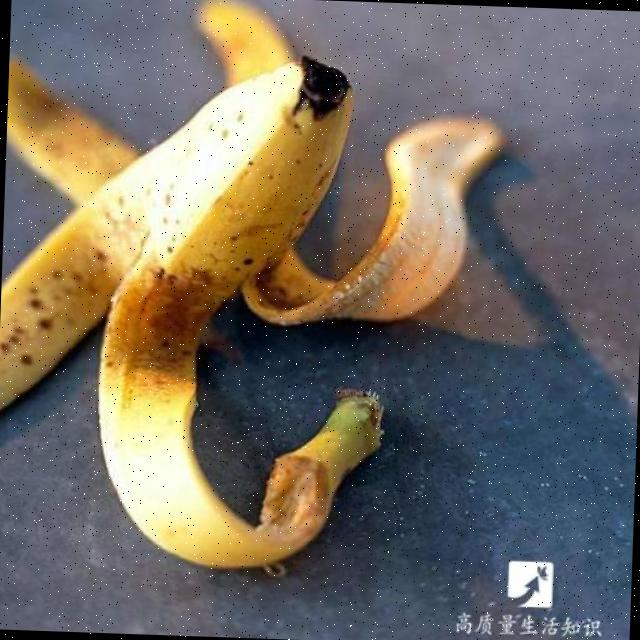banana-peel: (0, 0, 510, 581)
